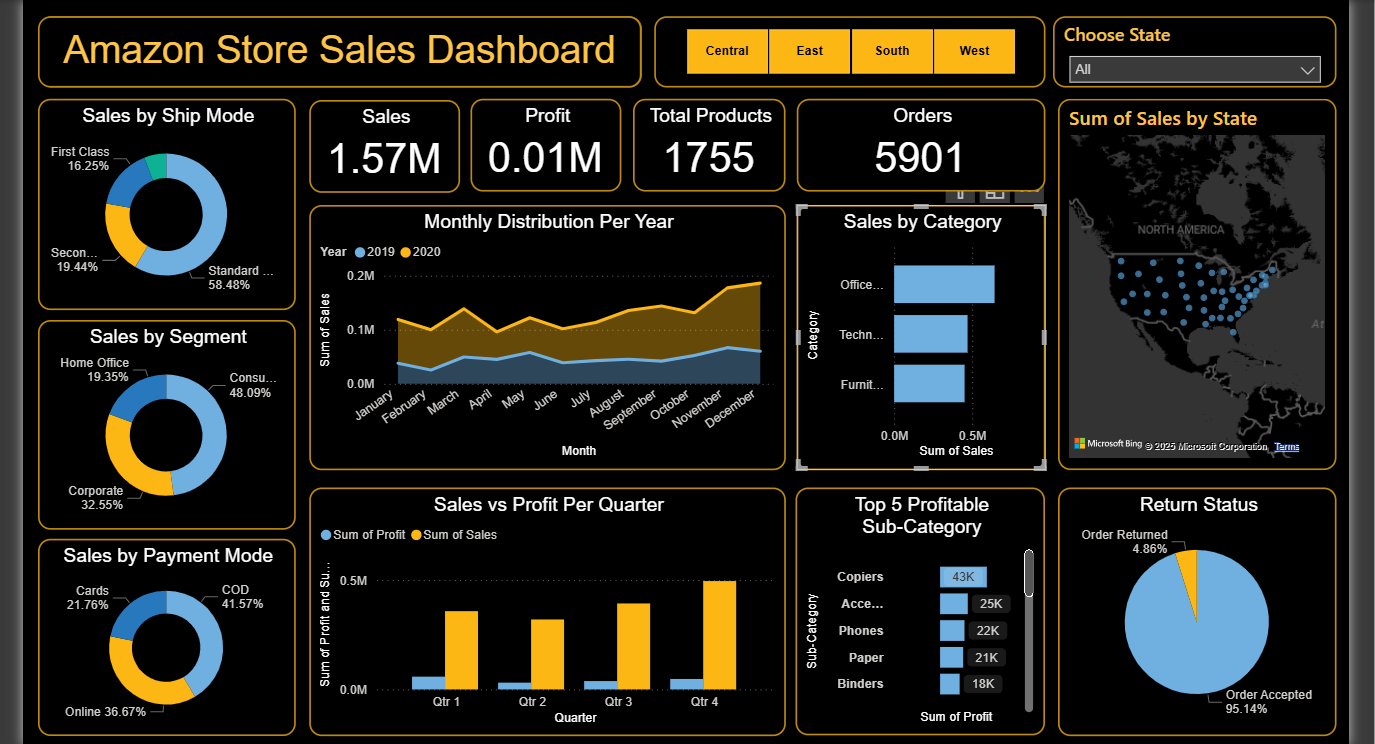

The dashboard page shown, as its layout file describes it:
{"tool":"powerbi","page":{"name":"Page 1","canvas":[1280,720],"ordinal":0},"visuals":[{"type":"clusteredBarChart","title":"Sales by Category","fields":{"Y":["Sum(Amazon Store Sales Data xlsx - Sheet1 (1).Sales)"],"Category":["Amazon Store Sales Data xlsx - Sheet1 (1).Category"]},"box":[746.8,197.9,240.1,255.8],"z":0},{"type":"clusteredBarChart","title":"Top 5 Profitable Sub-Category","fields":{"Y":["Sum(Amazon Store Sales Data xlsx - Sheet1 (1).Profit)"],"Category":["Amazon Store Sales Data xlsx - Sheet1 (1).Sub-Category"]},"box":[746,470.5,241,239],"z":1000},{"type":"donutChart","title":"Sales by Segment","fields":{"Y":["Sum(Amazon Store Sales Data xlsx - Sheet1 (1).Sales)"],"Category":["Amazon Store Sales Data xlsx - Sheet1 (1).Segment"]},"box":[14.5,308.8,248.5,202.7],"z":2000},{"type":"donutChart","title":"Sales by Ship Mode","fields":{"Category":["Amazon Store Sales Data xlsx - Sheet1 (1).Ship Mode"],"Y":["CountNonNull(Amazon Store Sales Data xlsx - Sheet1 (1).Product ID)"]},"box":[14.5,95.3,248.5,203.9],"z":3000},{"type":"donutChart","title":"Sales by Payment Mode","fields":{"Y":["CountNonNull(Amazon Store Sales Data xlsx - Sheet1 (1).Order ID)"],"Category":["Amazon Store Sales Data xlsx - Sheet1 (1).Payment Mode"]},"box":[14.5,520,248.5,190.6],"z":4000},{"type":"pieChart","title":"Return Status","fields":{"Category":["Amazon Store Sales Data xlsx - Sheet1 (1).Return Status"],"Y":["CountNonNull(Amazon Store Sales Data xlsx - Sheet1 (1).Order ID)"]},"box":[998.9,470.5,269,240.1],"z":5000},{"type":"clusteredColumnChart","title":"Sales vs Profit Per Quarter","fields":{"Y":["Sum(Amazon Store Sales Data xlsx - Sheet1 (1).Profit)","Sum(Amazon Store Sales Data xlsx - Sheet1 (1).Sales)"],"Category":["Amazon Store Sales Data xlsx - Sheet1 (1).Order Date.Variation.Date Hierarchy.Quarter"]},"box":[276.3,470.5,459.7,240.1],"z":6000},{"type":"stackedAreaChart","title":"Monthly Distribution Per Year","fields":{"Category":["Amazon Store Sales Data xlsx - Sheet1 (1).Order Date.Variation.Date Hierarchy.Month"],"Y":["Sum(Amazon Store Sales Data xlsx - Sheet1 (1).Sales)"],"Series":["Amazon Store Sales Data xlsx - Sheet1 (1).Order Date.Variation.Date Hierarchy.Year"]},"box":[276.3,197.9,459.7,255.8],"z":7000},{"type":"map","title":"Sum of Sales by State","fields":{"Category":["Amazon Store Sales Data xlsx - Sheet1 (1).State"]},"box":[998.9,95.3,269,358.3],"z":8000},{"type":"slicer","fields":{"Values":["Amazon Store Sales Data xlsx - Sheet1 (1).Region"]},"box":[609.3,15.7,377.6,68.8],"z":9000},{"type":"card","title":"Sales","fields":{"Values":["Sum(Amazon Store Sales Data xlsx - Sheet1 (1).Sales)"]},"box":[276.3,96.5,146,89.3],"z":10000},{"type":"card","title":"Profit","fields":{"Values":["CountNonNull(Amazon Store Sales Data xlsx - Sheet1 (1).Profit)"]},"box":[431.9,95.3,146,89.3],"z":11000},{"type":"card","title":"Total Products","fields":{"Values":["Count(Amazon Store Sales Data xlsx - Sheet1 (1).Product ID)"]},"box":[588.7,95.3,147.2,89.3],"z":12000},{"type":"card","title":"Orders","fields":{"Values":["CountNonNull(Amazon Store Sales Data xlsx - Sheet1 (1).Order ID)"]},"box":[746.8,95.3,240.1,89.3],"z":13000},{"type":"shape","box":[15.7,15.7,581.5,68.8],"z":14000},{"type":"textbox","box":[14.5,15.7,582.7,68.8],"z":15000},{"type":"slicer","title":"Choose State","fields":{"Values":["Amazon Store Sales Data xlsx - Sheet1 (1).State"]},"box":[994.1,15.7,273.9,68.8],"z":16000}]}

Visuals, with their boxes in screenshot pixels (x1, y1, x2, y2):
"Sales by Category" clusteredBarChart: rect(793, 206, 1047, 476)
"Top 5 Profitable Sub-Category" clusteredBarChart: rect(793, 494, 1047, 743)
"Sales by Segment" donutChart: rect(19, 323, 282, 537)
"Sales by Ship Mode" donutChart: rect(19, 97, 282, 313)
"Sales by Payment Mode" donutChart: rect(19, 546, 282, 743)
"Return Status" pieChart: rect(1060, 494, 1345, 743)
"Sales vs Profit Per Quarter" clusteredColumnChart: rect(296, 494, 782, 743)
"Monthly Distribution Per Year" stackedAreaChart: rect(296, 206, 782, 476)
"Sum of Sales by State" map: rect(1060, 97, 1345, 476)
slicer - Amazon Store Sales Data xlsx - Sheet1 (1).Region: rect(648, 13, 1047, 86)
"Sales" card: rect(296, 98, 450, 193)
"Profit" card: rect(460, 97, 615, 192)
"Total Products" card: rect(626, 97, 782, 192)
"Orders" card: rect(793, 97, 1047, 192)
shape: rect(20, 13, 635, 86)
textbox: rect(19, 13, 635, 86)
"Choose State" slicer: rect(1055, 13, 1345, 86)
